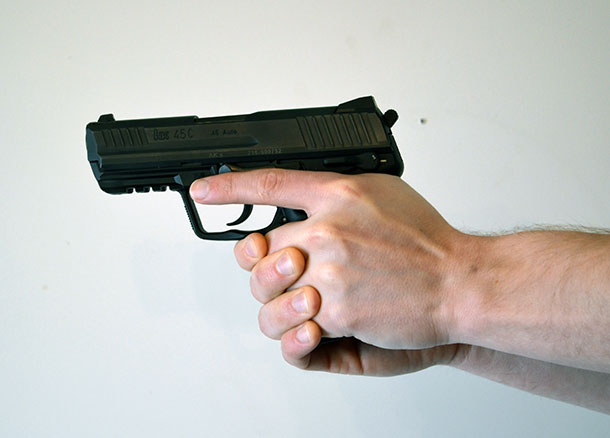pistol: (79, 89, 515, 424)
